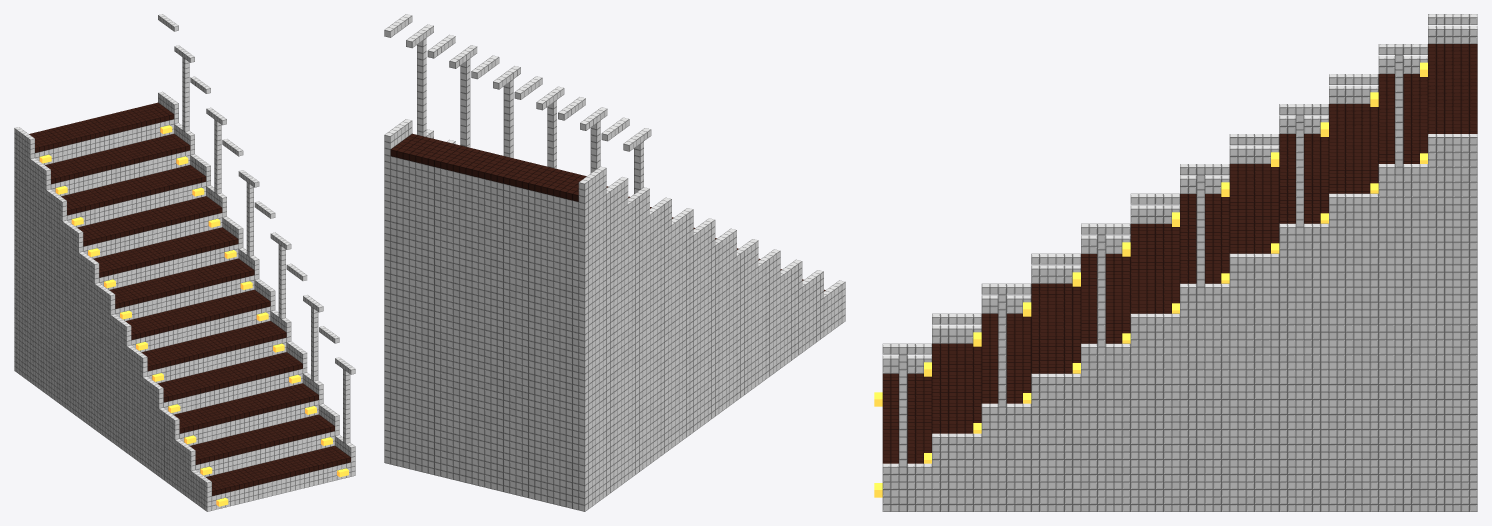
The model's file is stair_run.glb.
3 views of the same model, side by side, from view 1: azimuth 30°, elevation 25°; view 2: azimuth 150°, elevation 25°; view 3: azimuth 270°, elevation 25° (orthographic). The views are drawn at different scales.
Parts seen in each view (by area): view 1: stair_run; view 2: stair_run; view 3: stair_run.
Boxes of the visible parts, left/top/right/bottom form: stair_run: left=14, top=14, right=355, bottom=511; stair_run: left=384, top=14, right=845, bottom=511; stair_run: left=874, top=14, right=1477, bottom=511.
Size of the model in its own units: 1.6 by 3.3 by 3.65.
Materials: 4 (3 with a texture image).
